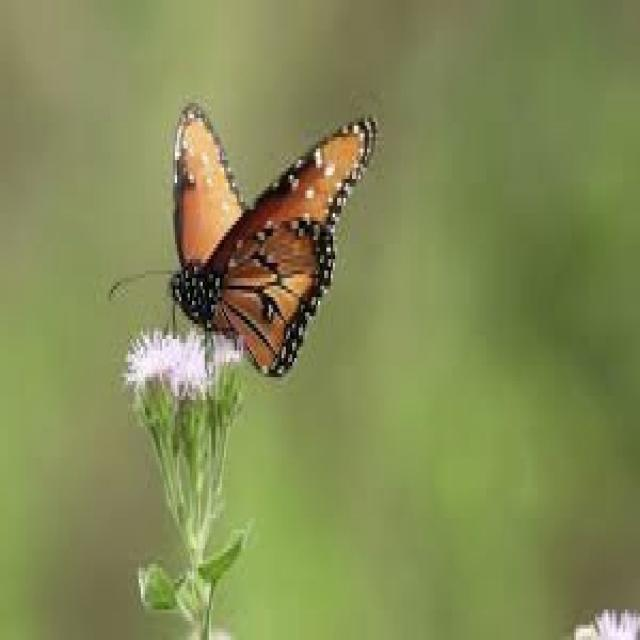butterfly: (173, 103, 378, 373)
